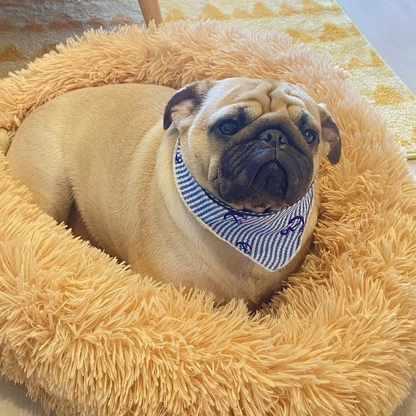Pug: (1, 65, 350, 312)
